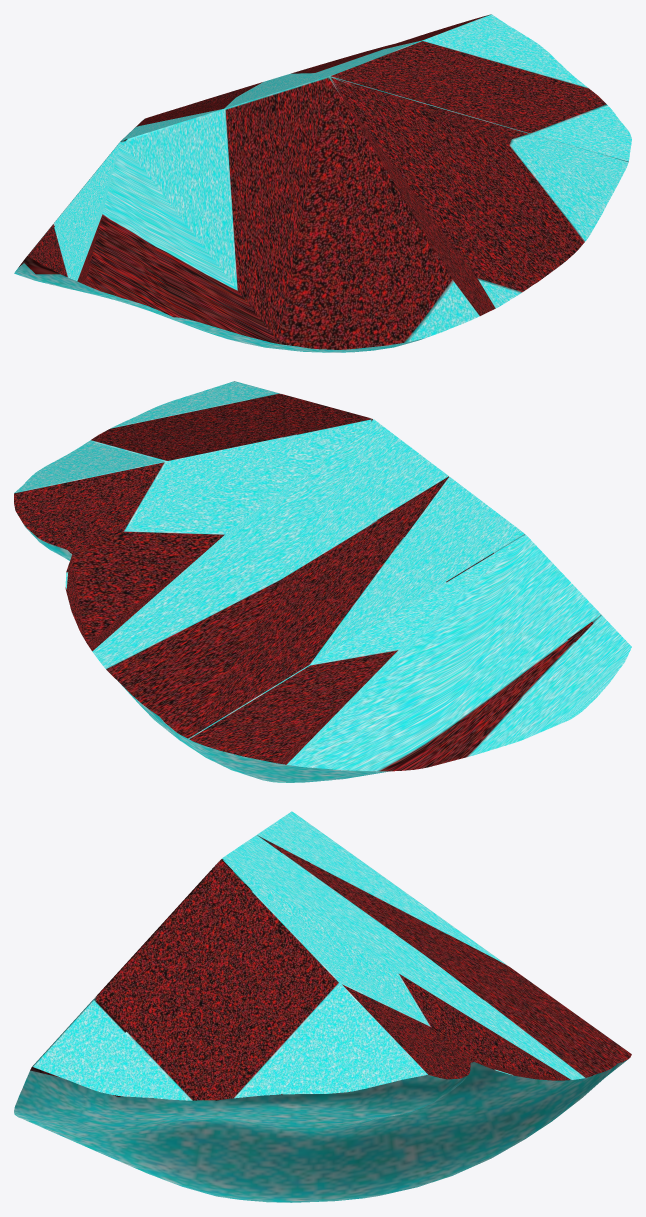
The picture shows the model from 3 angles, top to bottom: view 1: azimuth 30°, elevation 25°; view 2: azimuth 150°, elevation 25°; view 3: azimuth 270°, elevation 25°; orthographic projection. The views are drawn at different scales.
Visible parts, largest first — view 1: SM_VFX_Withered_Spike_07_LOD0; view 2: SM_VFX_Withered_Spike_07_LOD0; view 3: SM_VFX_Withered_Spike_07_LOD0.
Part boxes in pixels (x1,y1,x2,y2): SM_VFX_Withered_Spike_07_LOD0: (14,14,631,352); SM_VFX_Withered_Spike_07_LOD0: (14,381,631,782); SM_VFX_Withered_Spike_07_LOD0: (14,811,631,1202).
Size of the model in its own units: 12.26 by 6.24 by 10.65.
Materials: 1 (1 with a texture image).
